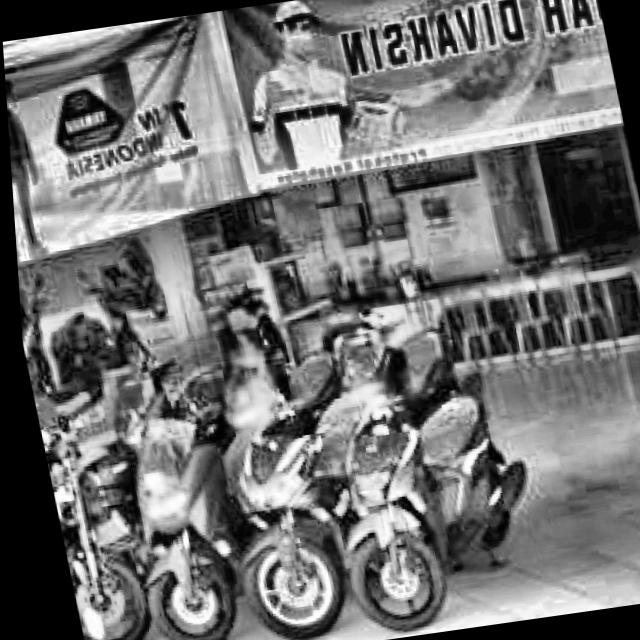motorcycle: (309, 382, 542, 640), (188, 380, 362, 639), (98, 394, 242, 640), (33, 416, 147, 640), (303, 311, 476, 430)
